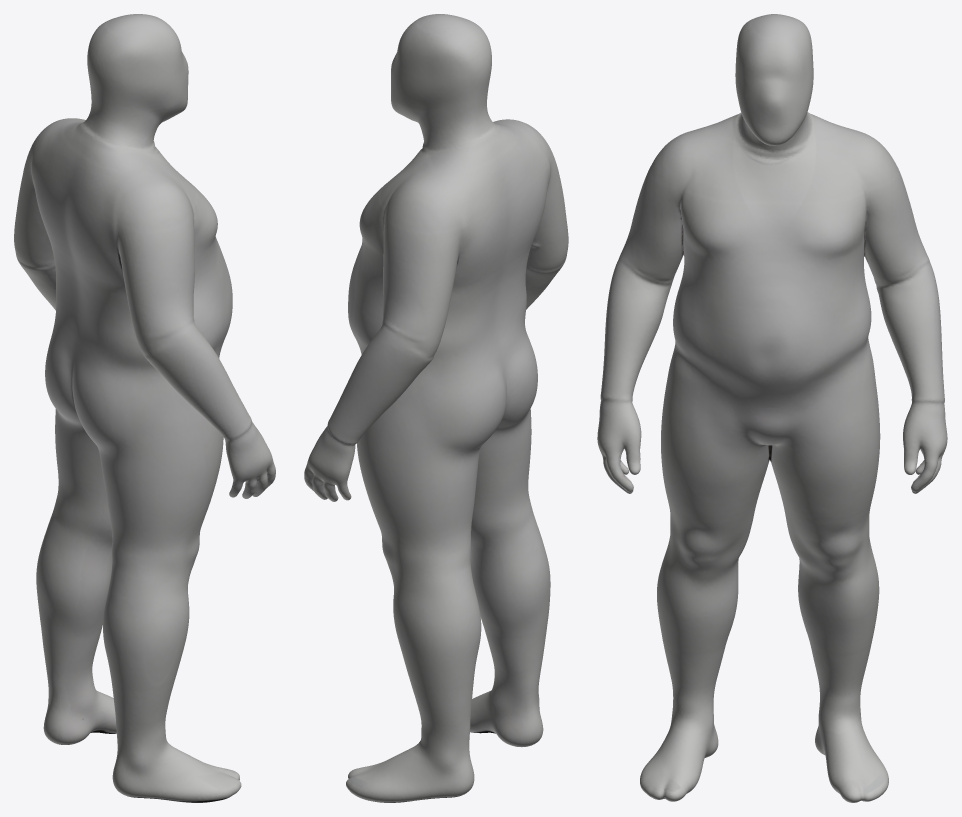
File: male-chubby.glb
3 views of the same model, side by side, from view 1: azimuth 30°, elevation 25°; view 2: azimuth 150°, elevation 25°; view 3: azimuth 270°, elevation 25° (orthographic). The views are drawn at different scales.
Parts seen in each view (by area): view 1: tripo_node_94253cd3-ca23-4b5a-bf98-339f47867210; view 2: tripo_node_94253cd3-ca23-4b5a-bf98-339f47867210; view 3: tripo_node_94253cd3-ca23-4b5a-bf98-339f47867210.
Boxes of the visible parts, bbox=[...] form: tripo_node_94253cd3-ca23-4b5a-bf98-339f47867210: bbox=[14, 14, 275, 802]; tripo_node_94253cd3-ca23-4b5a-bf98-339f47867210: bbox=[304, 14, 568, 802]; tripo_node_94253cd3-ca23-4b5a-bf98-339f47867210: bbox=[597, 14, 947, 802].
Bounding box in the file's own units: 0.2212 × 1 × 0.4168.
Materials: 1 (1 with a texture image).
